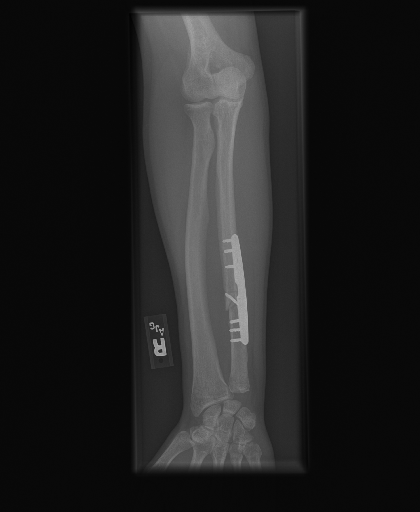implant: (221, 232, 250, 343)
